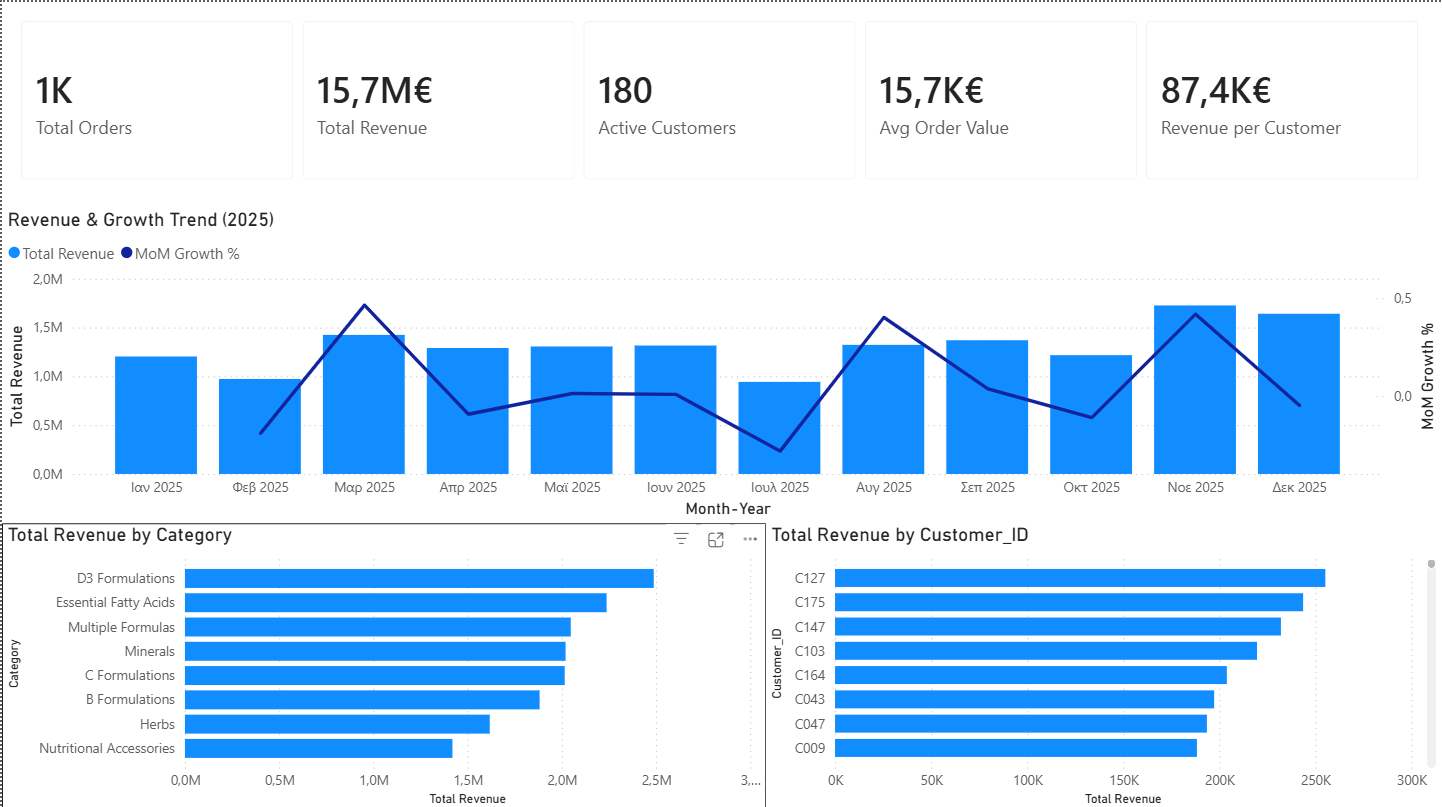

The dashboard page shown, as its layout file describes it:
{"tool":"powerbi","page":{"name":"Page 1 - Executive Overview","canvas":[1280,720],"ordinal":0},"visuals":[{"type":"cardVisual","fields":{"Data":["sales.Total Orders","sales.Total Revenue","sales.Active Customers","sales.Avg Order Value","sales.Revenue per Customer"]},"box":[0,0,1280.3,175.6],"z":0},{"type":"lineClusteredColumnComboChart","title":"Revenue & Growth Trend (2025)","fields":{"Y":["sales.Total Revenue"],"Y2":["sales.MoM Growth %"],"Category":["sales.Month-Year"]},"box":[0,183.9,1280.3,279.9],"z":1},{"type":"barChart","fields":{"Category":["sales.Category"],"Y":["sales.Total Revenue"]},"box":[0,463.8,679.2,256.6],"z":2},{"type":"barChart","fields":{"Category":["sales.Customer_ID"],"Y":["sales.Total Revenue"]},"box":[679.2,463.8,601,256.6],"z":3}]}

Visuals, with their boxes in screenshot pixels (x1, y1, x2, y2), scaled from the page's 1280x720 canvas onto the 1442x807 screenshot:
cardVisual - sales.Total Orders x sales.Total Revenue: x1=0 y1=0 x2=1441 y2=197
"Revenue & Growth Trend (2025)" lineClusteredColumnComboChart: x1=0 y1=206 x2=1441 y2=520
barChart - sales.Category x sales.Total Revenue: x1=0 y1=520 x2=765 y2=806
barChart - sales.Customer_ID x sales.Total Revenue: x1=765 y1=520 x2=1441 y2=806
